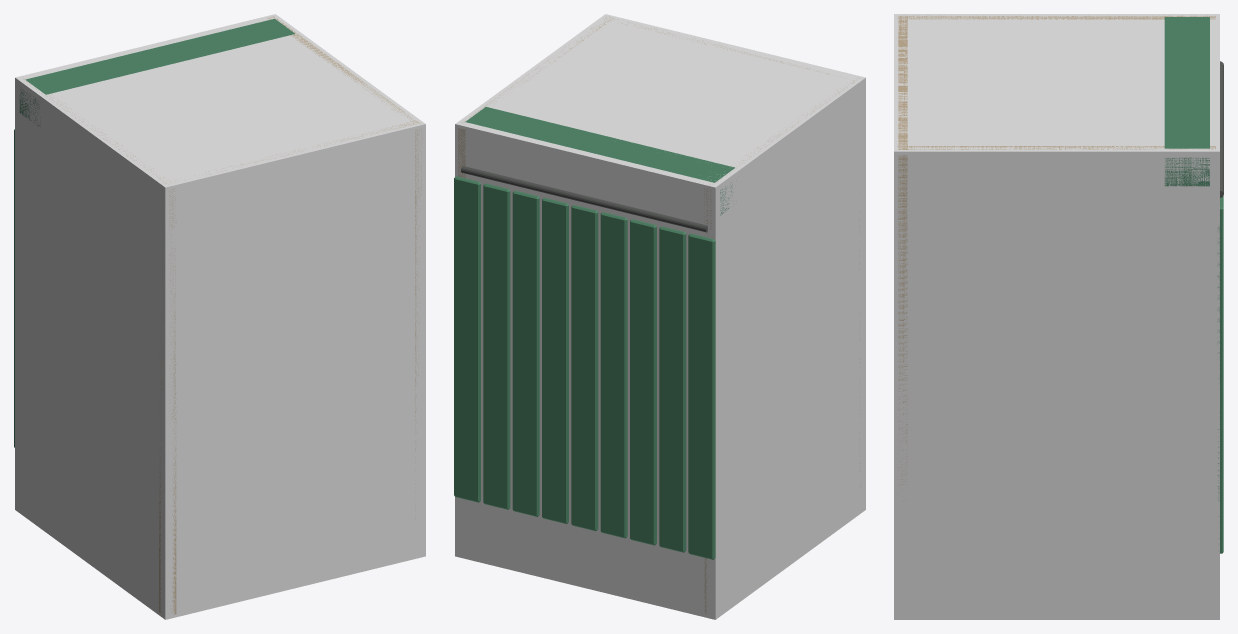
The model's file is standard.glb.
The picture shows the model from 3 angles, left to right: view 1: azimuth 30°, elevation 25°; view 2: azimuth 150°, elevation 25°; view 3: azimuth 270°, elevation 25°; orthographic projection. The views are drawn at different scales.
Visible parts, largest first — view 1: COL_FITTING_ROOMS_STANDARD, FittingRoom_Header.001, FittingRoom_Side.003, FittingRoom_Side.002; view 2: COL_FITTING_ROOMS_STANDARD, Curtain_Fold_4.001, Curtain_Fold_1.001, Curtain_Fold_0.001, Curtain_Fold_7, Curtain_Fold_6.001, Curtain_Fold_3.001, Curtain_Fold_8, Curtain_Fold_2.001, Curtain_Fold_5.001, FittingRoom_Header.001, Curtain_Rod.001; view 3: COL_FITTING_ROOMS_STANDARD, FittingRoom_Header.001, FittingRoom_Back.001, Curtain_Fold_8, FittingRoom_Side.002, FittingRoom_Side.003, Curtain_Rod.001.
Part boxes in pixels (box(x1,y1,x2,y2)): COL_FITTING_ROOMS_STANDARD: box(15, 14, 425, 619); FittingRoom_Header.001: box(19, 18, 294, 126); FittingRoom_Side.003: box(267, 16, 422, 518); FittingRoom_Side.002: box(22, 77, 176, 614); COL_FITTING_ROOMS_STANDARD: box(455, 14, 865, 619); Curtain_Fold_4.001: box(571, 205, 598, 531); Curtain_Fold_1.001: box(659, 226, 686, 552); Curtain_Fold_0.001: box(688, 233, 715, 559); Curtain_Fold_7: box(483, 183, 510, 509); Curtain_Fold_6.001: box(512, 190, 539, 516); Curtain_Fold_3.001: box(600, 212, 627, 538); Curtain_Fold_8: box(454, 176, 480, 502); Curtain_Fold_2.001: box(630, 219, 656, 545); Curtain_Fold_5.001: box(542, 198, 568, 523); FittingRoom_Header.001: box(465, 107, 734, 215); Curtain_Rod.001: box(461, 166, 707, 232); COL_FITTING_ROOMS_STANDARD: box(894, 14, 1219, 619); FittingRoom_Header.001: box(1164, 17, 1209, 186); FittingRoom_Back.001: box(898, 16, 907, 501); Curtain_Fold_8: box(1217, 196, 1223, 553); FittingRoom_Side.002: box(897, 15, 1215, 19); FittingRoom_Side.003: box(897, 146, 1215, 149); Curtain_Rod.001: box(1220, 61, 1223, 197).
Size of the model in its own units: 1.45 by 2.3 by 1.47.
